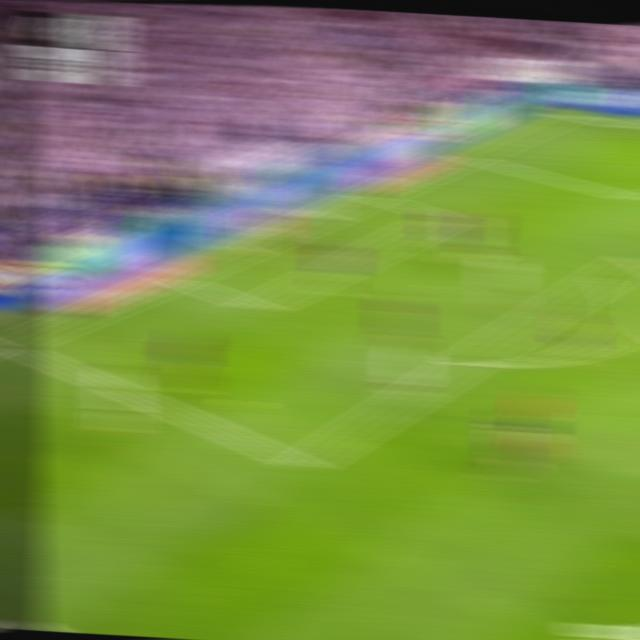bigarea_bottom_inner: (285, 449, 320, 480)
bigarea_bottom_outter: (2, 334, 26, 355)
bigarea_top_outter: (451, 146, 480, 163)
bottom_arc_area_intersection: (449, 347, 485, 374)
corner: (547, 106, 578, 119)
smallarea_bottom_inner: (240, 294, 272, 320)
top_arc_area_intersection: (591, 264, 623, 285)
